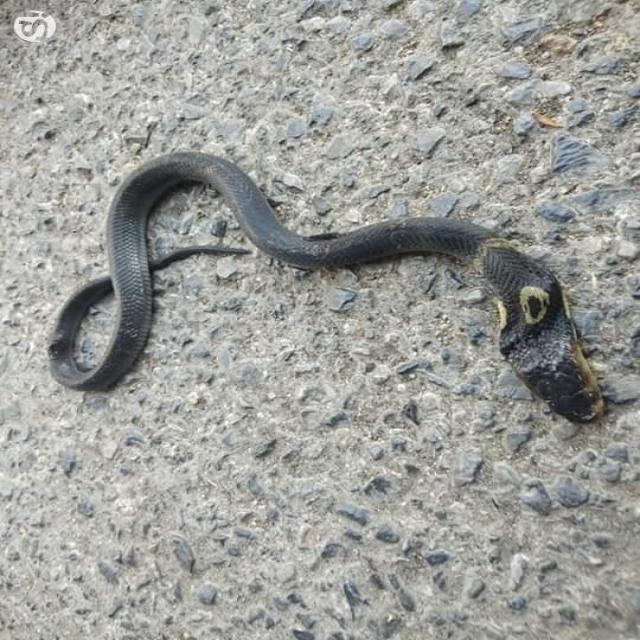Venomous: (461, 228, 628, 438)
